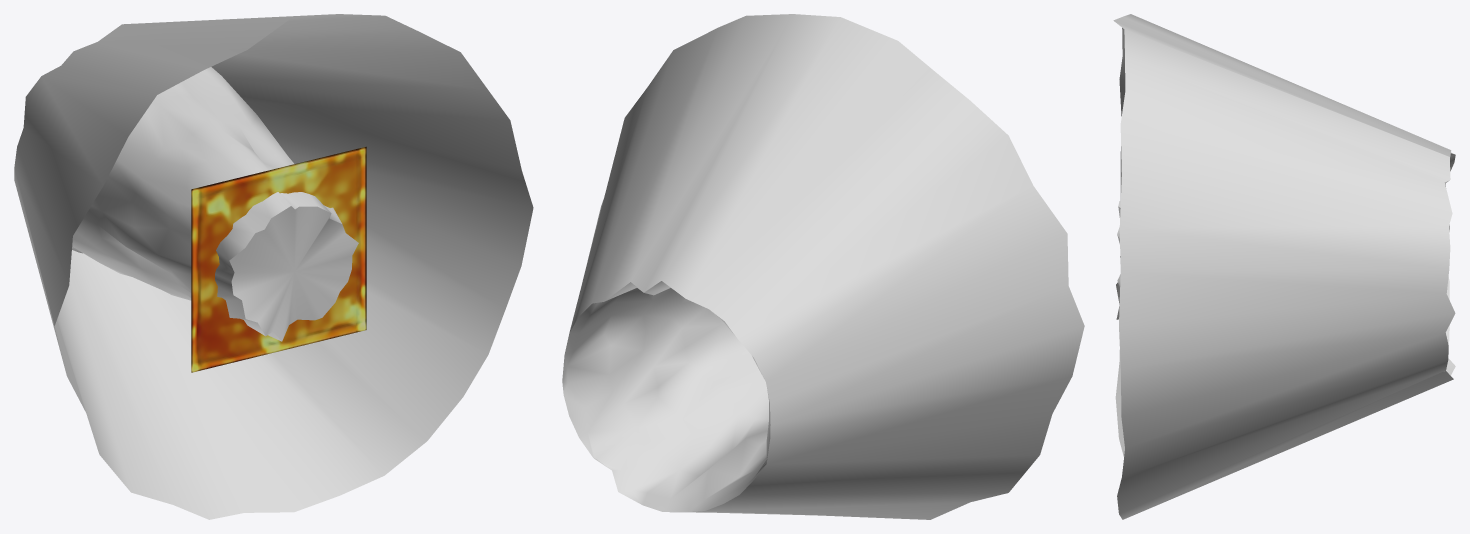
File: Map5.dae
3 renders of one model, left to right at view 1: azimuth 30°, elevation 25°; view 2: azimuth 150°, elevation 25°; view 3: azimuth 270°, elevation 25°, orthographic. The views are drawn at different scales.
Visible parts, largest first — view 1: Rock, Lava; view 2: Rock; view 3: Rock.
Boxes of the visible parts, x1,y1,x2,y2 form: Rock: [14, 14, 533, 519]; Lava: [191, 146, 366, 372]; Rock: [562, 14, 1084, 519]; Rock: [1113, 14, 1455, 519].
Size of the model in its own units: 273 by 181 by 269.
2 materials, 1 textured.
